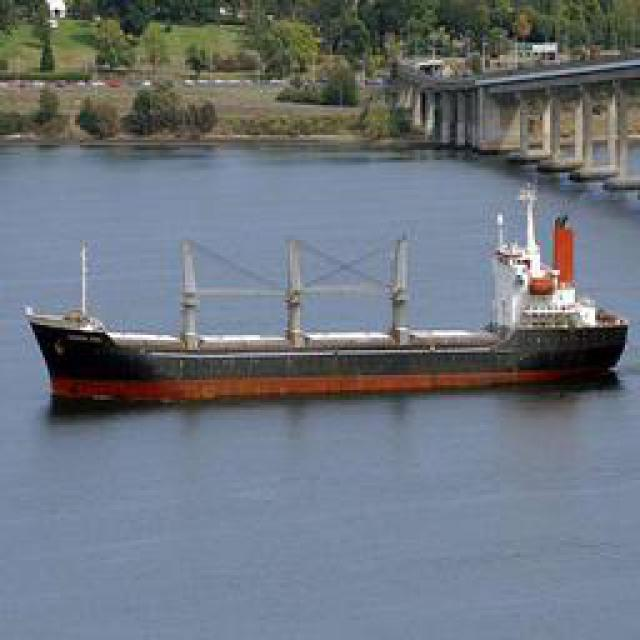Ship: (19, 236, 639, 396)
